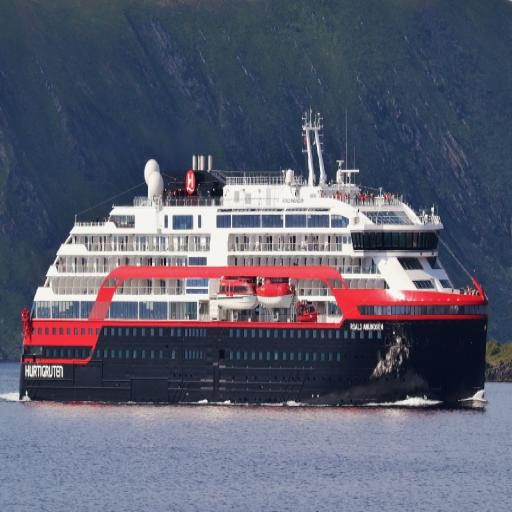cruises: (19, 105, 492, 419)
